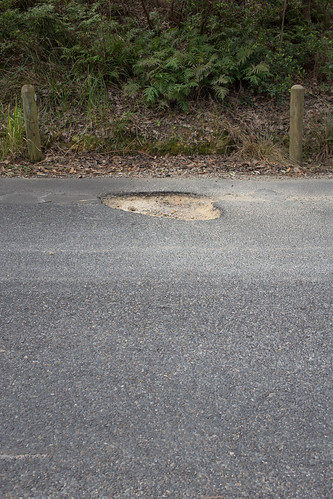street: (7, 172, 333, 499)
vegetation: (1, 1, 325, 167)
